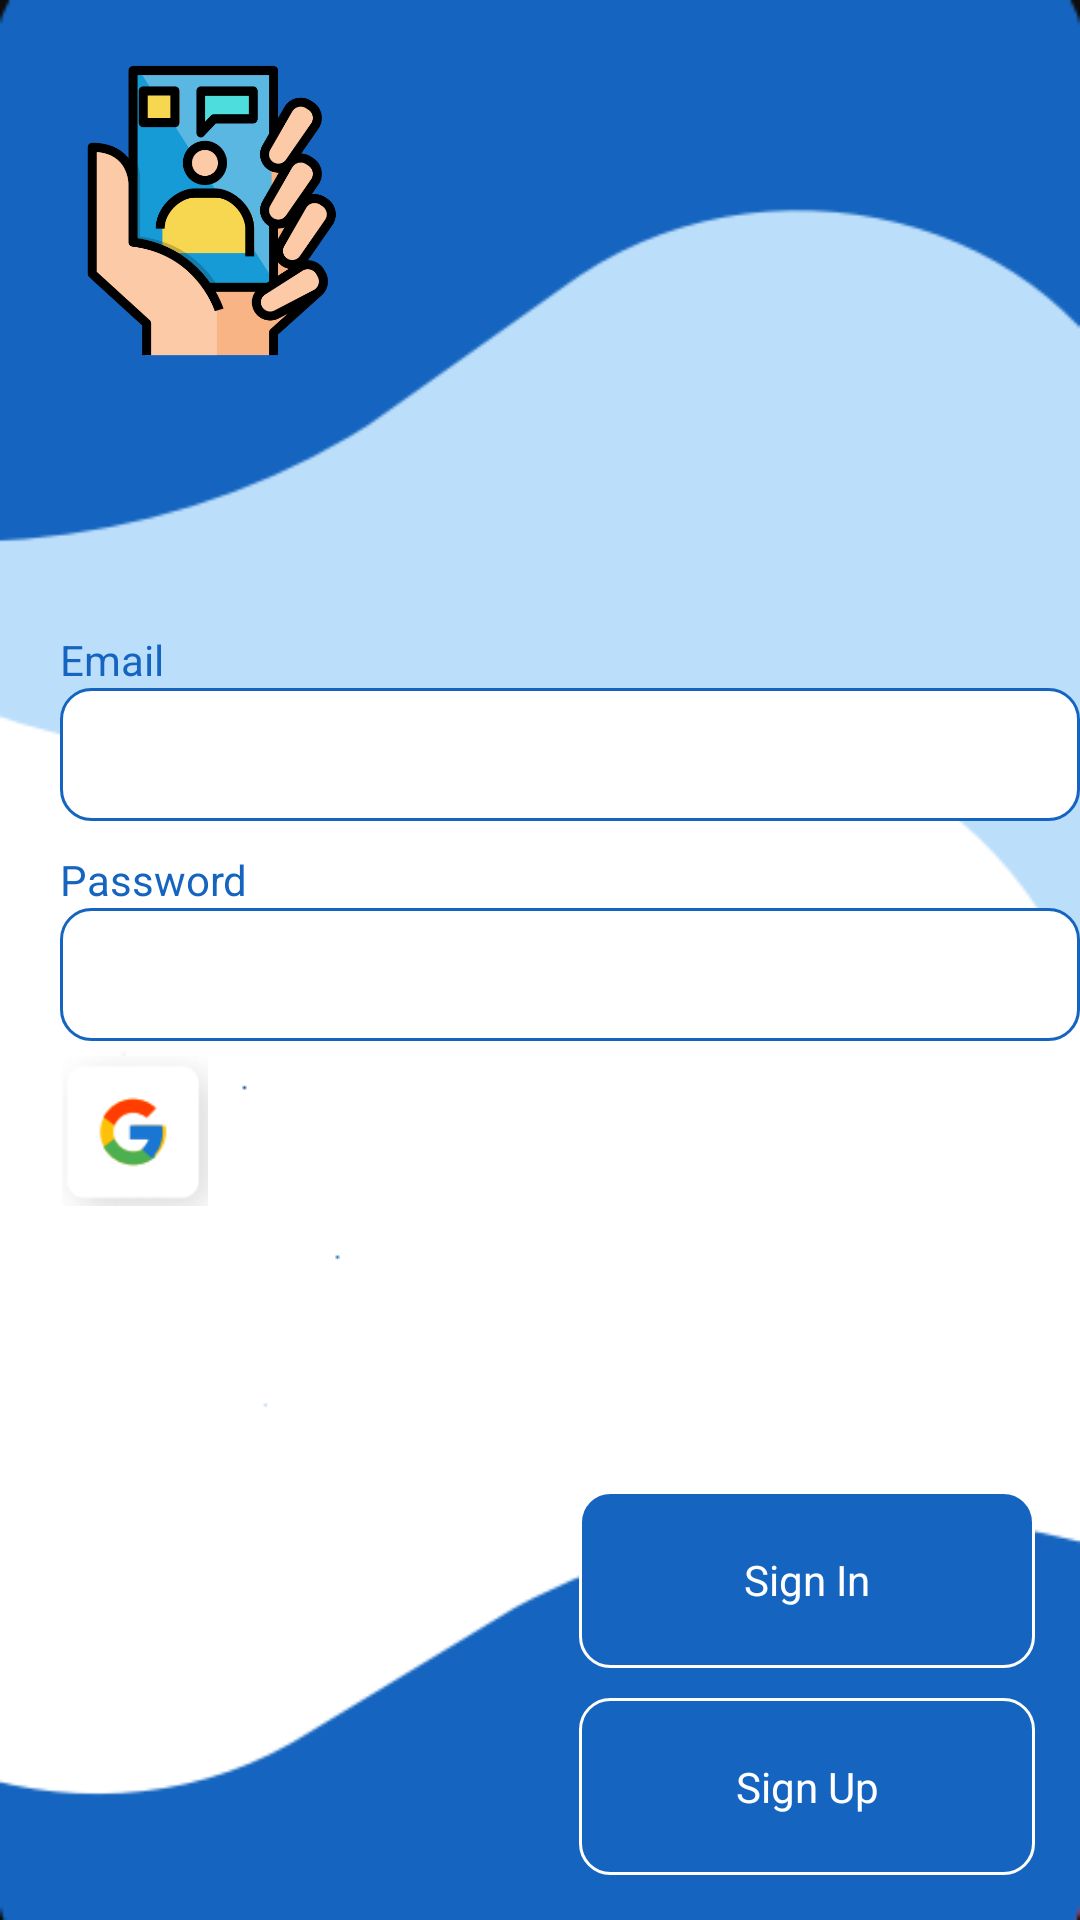

Where icons sit on this 1080px×1920px app screen, as bbox=(x1, y1, x2, y2):
telefon: bbox=(87, 66, 336, 356)
